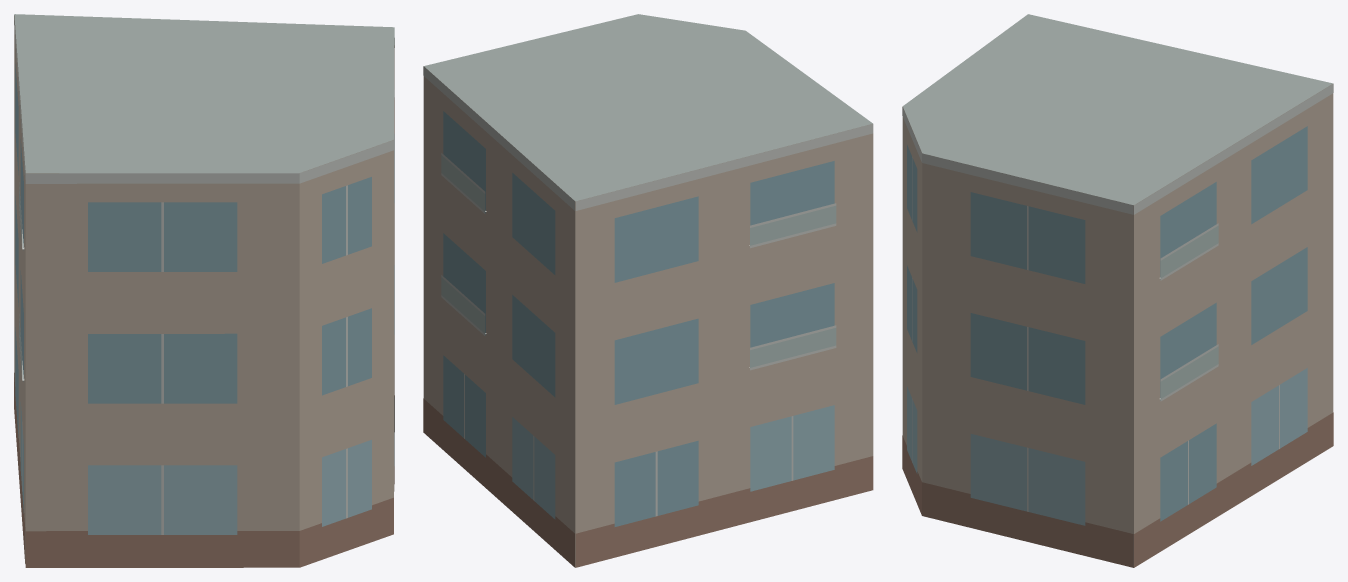
Rendered from survey-upis-32957805.glb.
The picture shows the model from 3 angles, left to right: view 1: azimuth 30°, elevation 25°; view 2: azimuth 150°, elevation 25°; view 3: azimuth 270°, elevation 25°; orthographic projection. The views are drawn at different scales.
Visible parts, largest first — view 1: survey-upis-32957805.tmp; view 2: survey-upis-32957805.tmp; view 3: survey-upis-32957805.tmp.
Part boxes in pixels (box(x1,y1,x2,y2)): survey-upis-32957805.tmp: box(14, 14, 394, 567); survey-upis-32957805.tmp: box(423, 14, 873, 567); survey-upis-32957805.tmp: box(902, 14, 1333, 567).
Size of the model in its own units: 10.36 by 9.15 by 9.86.
